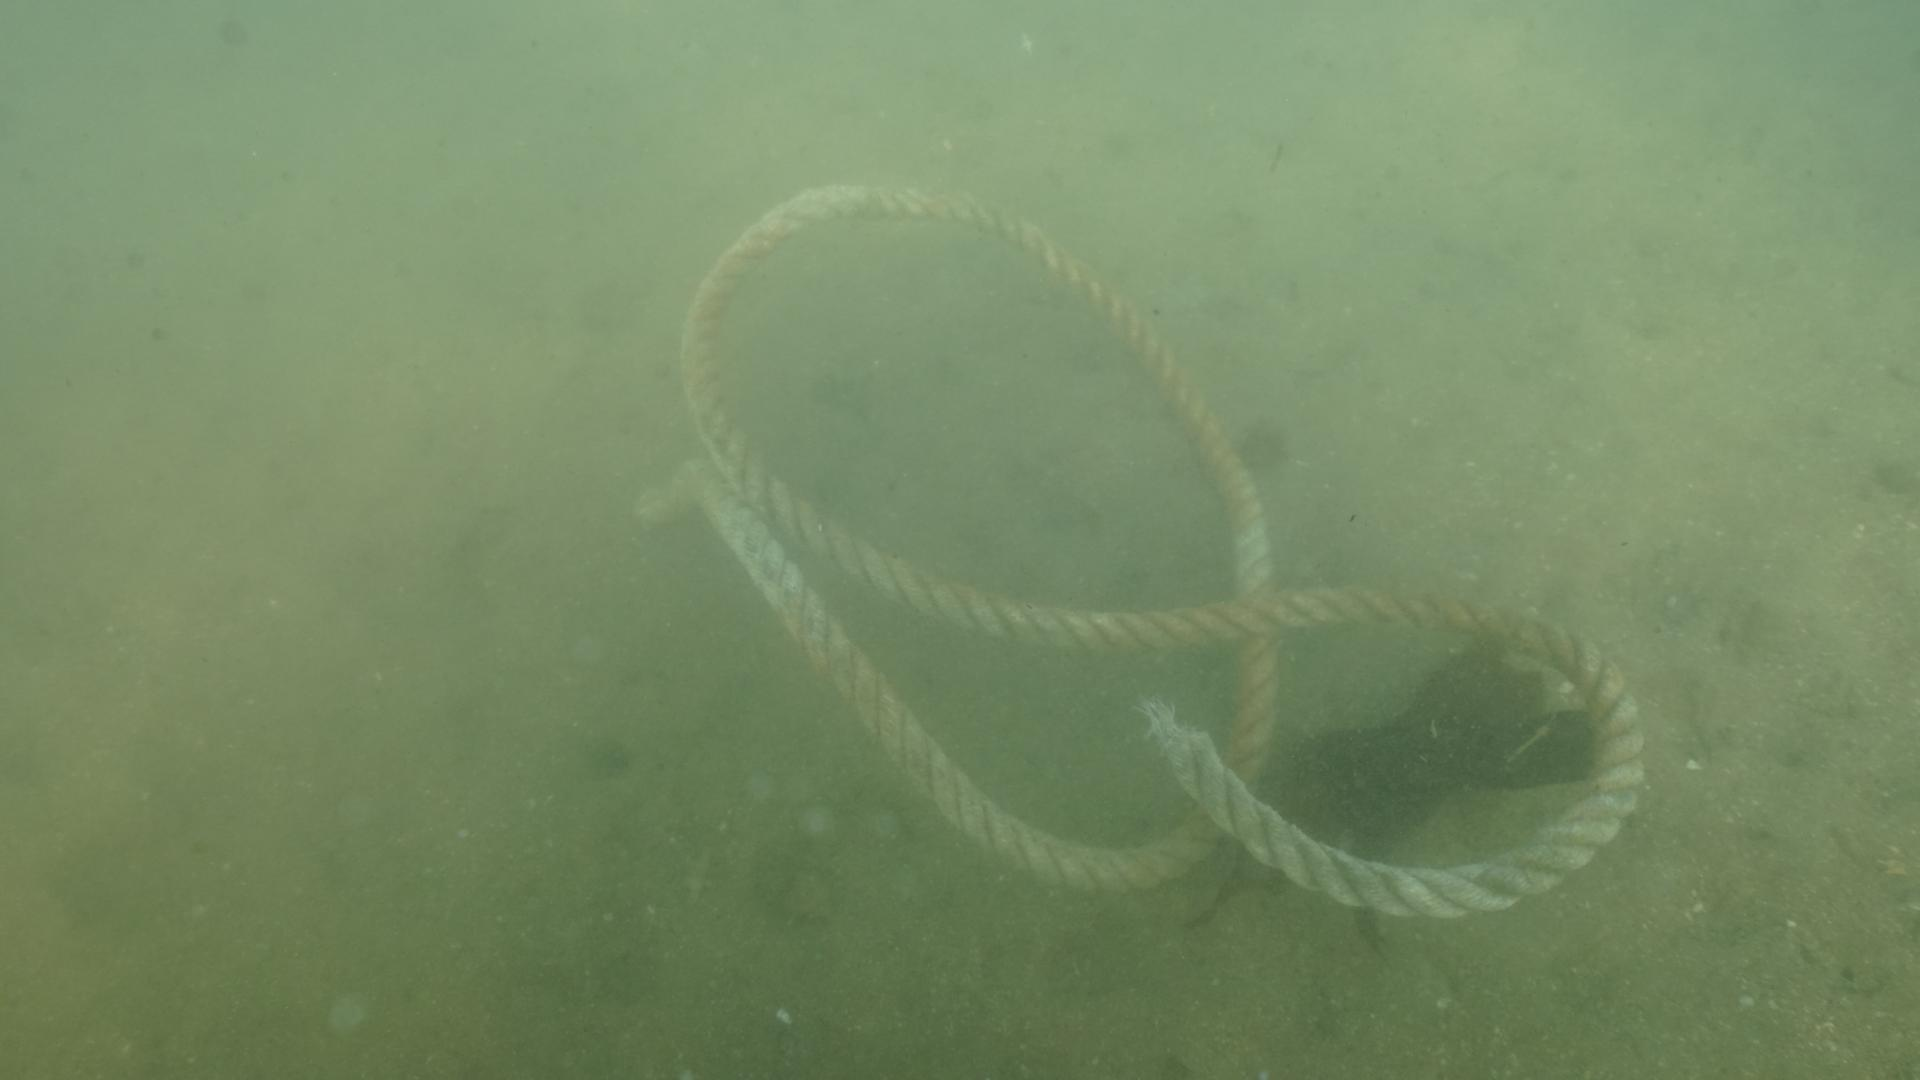bundle of ropes: (622, 167, 1650, 923)
